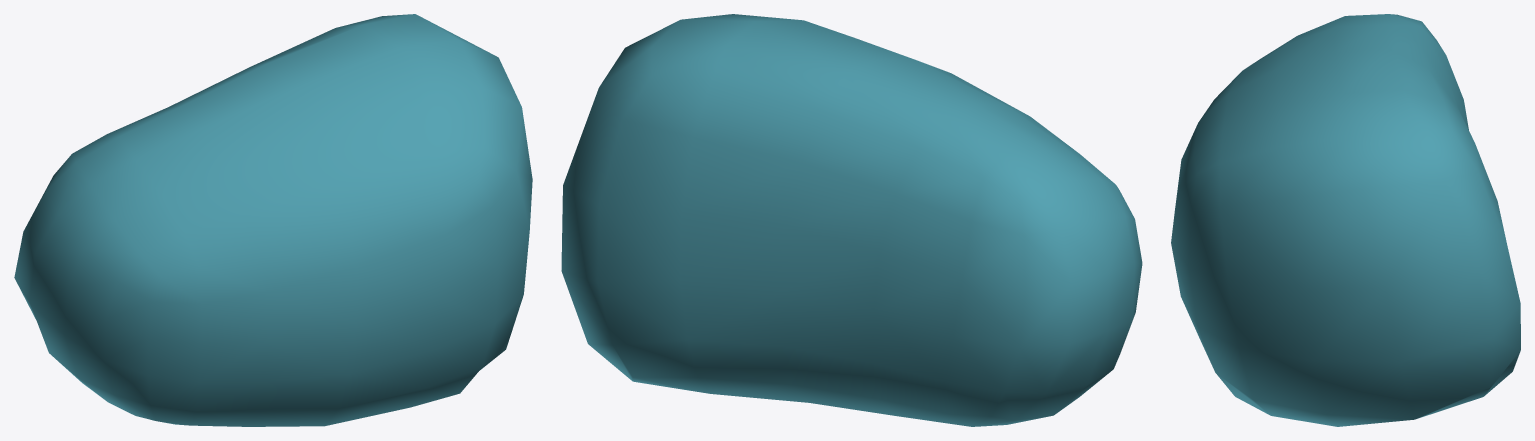
Rendered from VIS_Alpha_Surface_047.dae.
3 views of the same model, side by side, from view 1: azimuth 30°, elevation 25°; view 2: azimuth 150°, elevation 25°; view 3: azimuth 270°, elevation 25° (orthographic). The views are drawn at different scales.
Visible parts, largest first — view 1: VIS_Alpha_Surface_047; view 2: VIS_Alpha_Surface_047; view 3: VIS_Alpha_Surface_047.
Boxes of the visible parts, left/top/right/bottom form: VIS_Alpha_Surface_047: left=14, top=14, right=532, bottom=426; VIS_Alpha_Surface_047: left=561, top=14, right=1142, bottom=426; VIS_Alpha_Surface_047: left=1171, top=14, right=1520, bottom=426.
Bounding box in the file's own units: 3.49 × 2.25 × 2.25.
